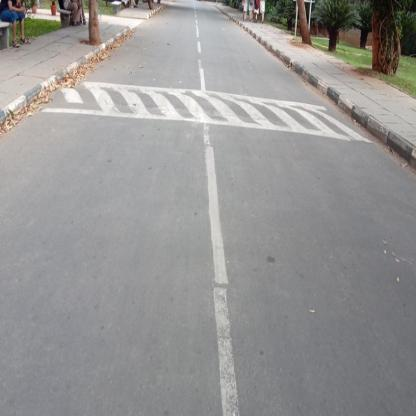speed-bumps: (44, 74, 373, 149)
